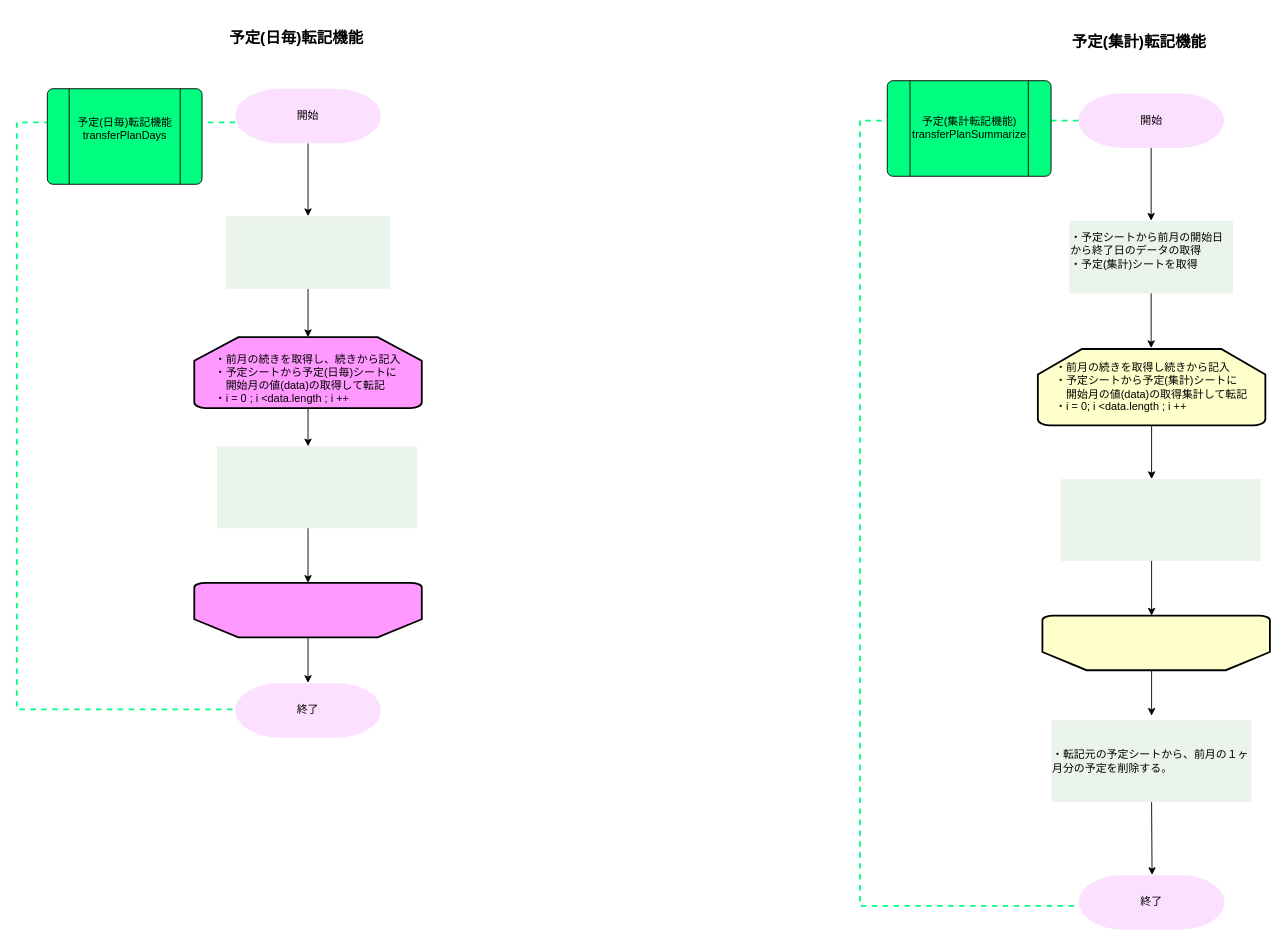
Image size: 1286x945. Some labels were removed from this diagram. Here are the shapes that lost their labels. From the top down, the centre of each, then its label:
point 307,252: ・予定シートから前月のデータ を取得 ・予定(日毎)シートを取得
point 317,487: ・１列目に区分１の転記 ・２列目に区分２の転記 ・３列目にイベント合計時間の集計 ・４列目以降に日付毎のイベント時間 ・次の行に移動
point 1160,520: ・１列目に区分１の転記 ・２列目に区分２の転記 ・３列目にイベント合計時間の集計 ・４列目以降に月毎のイベント時間
point 307,609: ・１ヶ月分の全ての値を書き出し終了
point 1155,642: ・１ヶ月分全ての値を集計転記して、 書き出し終了
